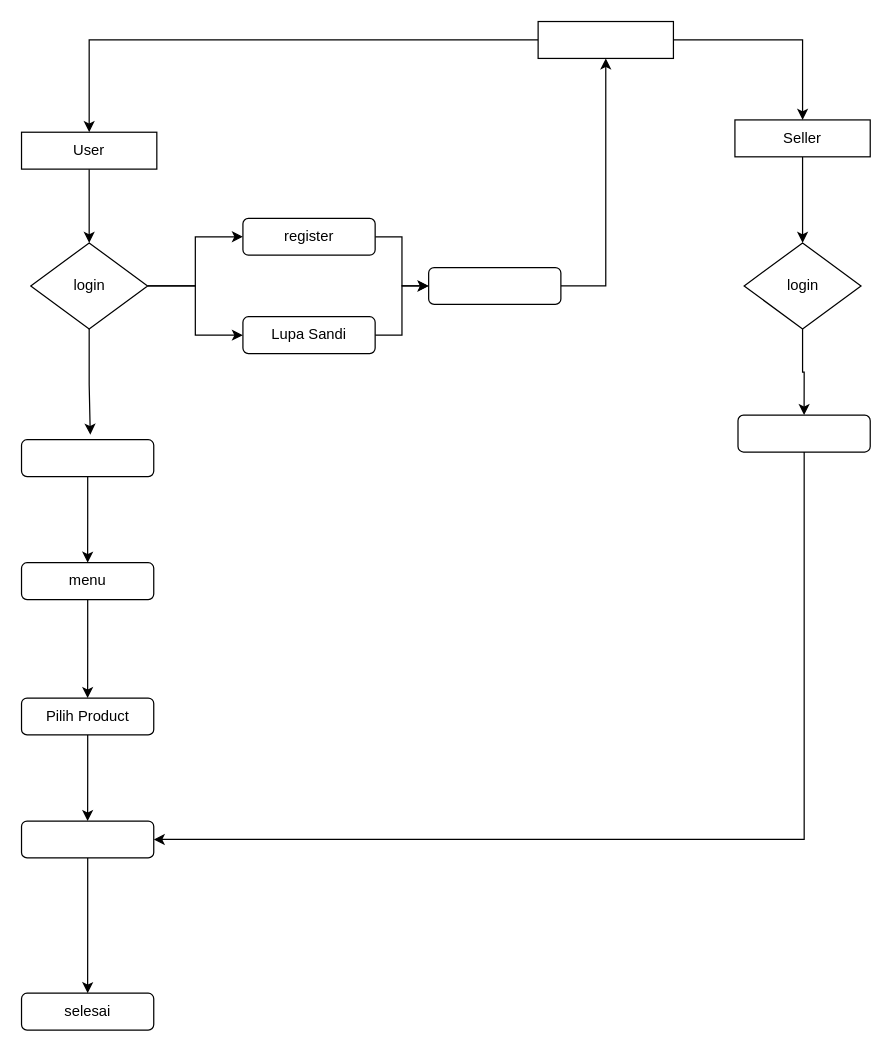
This 892x1052 diagram has some shape labels left out. Here are the shapes that lost their labels. From the top down, the centre of each, then its label:
point (605, 39): Halaman Page
point (494, 285): Vertivikasi
point (803, 433): tambah barang
point (87, 457): Dasbord
point (87, 839): Chat
